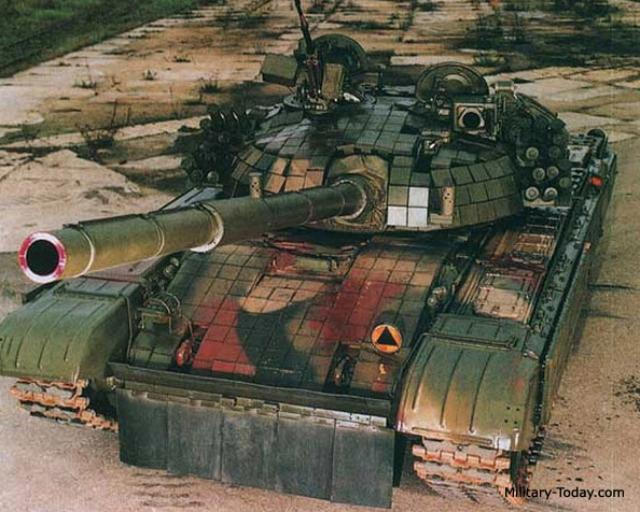tank: (0, 51, 610, 477)
